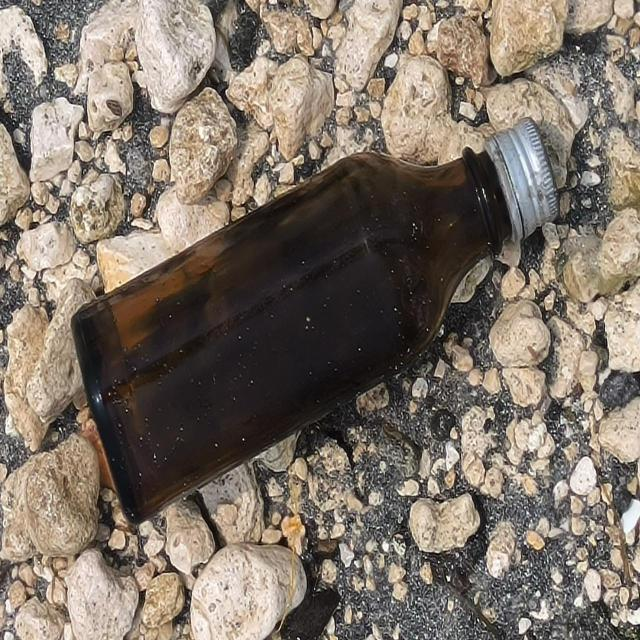glass_waste: (70, 115, 562, 529)
